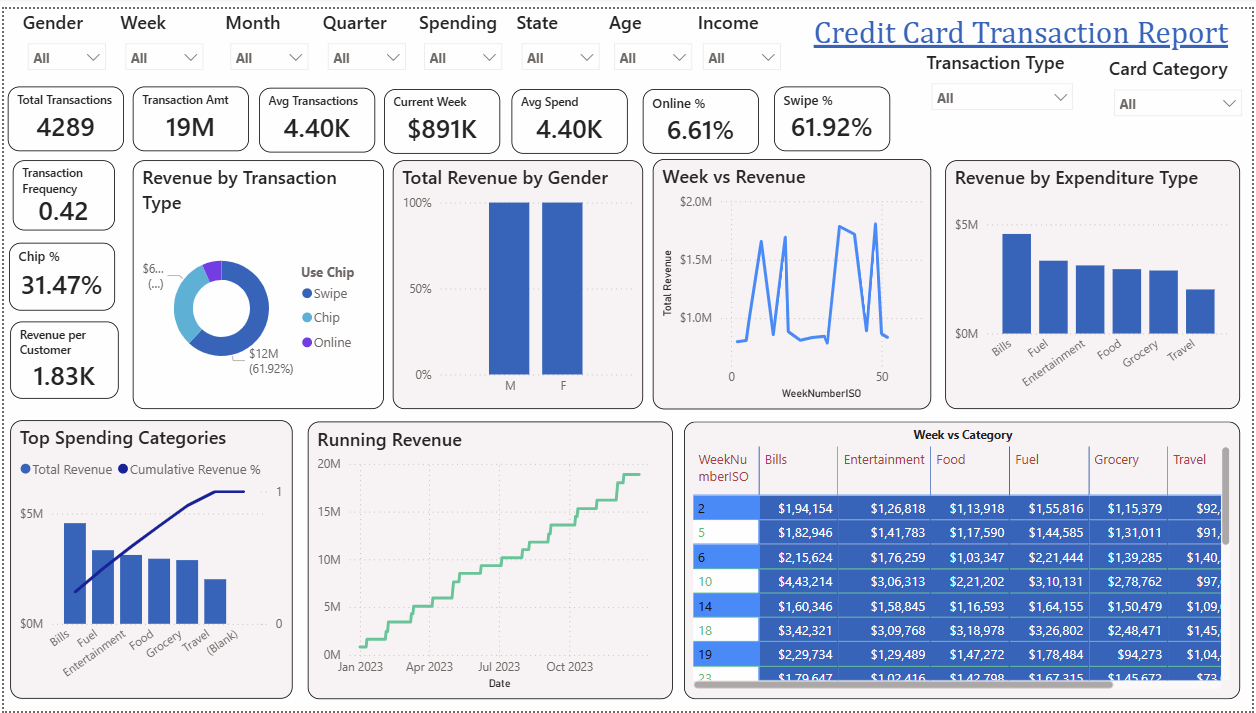

Layout of this report page (visuals, bound fields, positions):
{"tool":"powerbi","page":{"name":"Transaction Report","canvas":[1280,720],"ordinal":1},"visuals":[{"type":"textbox","box":[806.4,0,473.1,61.5],"z":0},{"type":"slicer","title":"Gender","fields":{"Values":["customer.Gender"]},"box":[14.1,0,100,80.8],"z":1000},{"type":"slicer","title":"Week","fields":{"Values":["Calendar.WeekNumberISO"]},"box":[114.1,0,100,80.8],"z":2000},{"type":"slicer","title":"Month","fields":{"Values":["Calendar.MonthShort"]},"box":[221.8,0,100,79.5],"z":3000},{"type":"slicer","title":"Quarter","fields":{"Values":["Calendar.Quarter"]},"box":[321.8,0,100,67.9],"z":4000},{"type":"slicer","title":"Spending","fields":{"Values":["CreditCard.Exp Type"]},"box":[420.5,0,100,79.5],"z":5000},{"type":"slicer","title":"Transaction Type","fields":{"Values":["CreditCard.Use Chip"]},"box":[941,41,165.4,82.1],"z":6000},{"type":"slicer","title":"Card Category","fields":{"Values":["CreditCard.Card_Category"]},"box":[1128.2,47.4,151.3,73.1],"z":7000},{"type":"slicer","title":"State","fields":{"Values":["customer.state_cd"]},"box":[520.5,0,100,79.5],"z":8000},{"type":"slicer","title":"Age","fields":{"Values":["customer.Age group "]},"box":[615.4,0,100,79.5],"z":9000},{"type":"slicer","title":"Income","fields":{"Values":["customer.Income"]},"box":[706.4,0,100,79.5],"z":10000},{"type":"card","title":"Total Transactions","fields":{"Values":["CreditCard.Total transactions"]},"box":[3.8,79.5,119.2,66.7],"z":11000},{"type":"card","title":"Transaction Amt","fields":{"Values":["Sum(CreditCard.Total_Trans_Amt)"]},"box":[132.1,79.5,119.2,66.7],"z":12000},{"type":"card","title":"Avg Transactions","fields":{"Values":["Calendar.Average Transaction"]},"box":[261.5,80.8,119.2,66.7],"z":13000},{"type":"card","title":"Current Week","fields":{"Values":["Calendar.Revenue current week"]},"box":[389.7,82.1,119.2,66.7],"z":14000},{"type":"card","title":"Avg Spend","fields":{"Values":["Calendar.Average Spend"]},"box":[520.5,82.1,119.2,66.7],"z":15000},{"type":"card","title":"Transaction Frequency","fields":{"Values":["Calendar.Transaction Frequency"]},"box":[9,155.1,105.1,71.8],"z":16000},{"type":"card","title":"Online %","fields":{"Values":["Calendar.Online %"]},"box":[655.1,82.1,119.2,66.7],"z":17000},{"type":"card","title":"Swipe %","fields":{"Values":["Calendar.Swipe %"]},"box":[789.7,79.5,119.2,66.7],"z":18000},{"type":"card","title":"Revenue per Customer","fields":{"Values":["Calendar.Revenue per Customer"]},"box":[6.4,320.5,111.5,79.5],"z":19000},{"type":"card","title":"Chip %","fields":{"Values":["Calendar.Chip %"]},"box":[5.1,239.7,109,69.2],"z":20000},{"type":"donutChart","title":"Revenue by Transaction Type","fields":{"Category":["CreditCard.Use Chip"],"Y":["CreditCard.Total Revenue"]},"box":[132.1,155.1,257.7,255.1],"z":21000},{"type":"columnChart","title":" Revenue by Expenditure Type","fields":{"Category":["CreditCard.Exp Type"],"Y":["CreditCard.Total Revenue"]},"box":[965.4,155.1,302.6,255.1],"z":22000},{"type":"hundredPercentStackedColumnChart","fields":{"Category":["customer.Gender"],"Y":["CreditCard.Total Revenue"]},"box":[398.7,155.1,256.4,255.1],"z":23000},{"type":"lineStackedColumnComboChart","title":"Top Spending Categories","fields":{"Y":["CreditCard.Total Revenue"],"Y2":["Calendar.Cumulative Revenue %"],"Category":["CreditCard.Exp Type"]},"box":[6.4,421.8,289.7,285.9],"z":24000},{"type":"lineChart","title":"Week vs Revenue","fields":{"Category":["Calendar.WeekNumberISO"],"Y":["CreditCard.Total Revenue"]},"box":[665.4,153.8,285.9,256.4],"z":25000},{"type":"lineChart","title":"Running Revenue","fields":{"Category":["Calendar.Date"],"Y":["Calendar.Running Revenue"]},"box":[311.5,423.1,374.4,284.6],"z":26000},{"type":"pivotTable","title":"Week vs Category","fields":{"Rows":["Calendar.WeekNumberISO"],"Columns":["CreditCard.Exp Type"],"Values":["CreditCard.Total Revenue"]},"box":[697.4,423.1,570.5,284.6],"z":27000}]}

Visuals, with their boxes in screenshot pixels (x1, y1, x2, y2), scaled from the page's 1280x720 canvas onto the 1256x713 screenshot:
textbox: (left=791, top=0, right=1255, bottom=61)
"Gender" slicer: (left=14, top=0, right=112, bottom=80)
"Week" slicer: (left=112, top=0, right=210, bottom=80)
"Month" slicer: (left=218, top=0, right=316, bottom=79)
"Quarter" slicer: (left=316, top=0, right=414, bottom=67)
"Spending" slicer: (left=413, top=0, right=511, bottom=79)
"Transaction Type" slicer: (left=923, top=41, right=1086, bottom=122)
"Card Category" slicer: (left=1107, top=47, right=1255, bottom=119)
"State" slicer: (left=511, top=0, right=609, bottom=79)
"Age" slicer: (left=604, top=0, right=702, bottom=79)
"Income" slicer: (left=693, top=0, right=791, bottom=79)
"Total Transactions" card: (left=4, top=79, right=121, bottom=145)
"Transaction Amt" card: (left=130, top=79, right=247, bottom=145)
"Avg Transactions" card: (left=257, top=80, right=374, bottom=146)
"Current Week" card: (left=382, top=81, right=499, bottom=147)
"Avg Spend" card: (left=511, top=81, right=628, bottom=147)
"Transaction Frequency" card: (left=9, top=154, right=112, bottom=225)
"Online %" card: (left=643, top=81, right=760, bottom=147)
"Swipe %" card: (left=775, top=79, right=892, bottom=145)
"Revenue per Customer" card: (left=6, top=317, right=116, bottom=396)
"Chip %" card: (left=5, top=237, right=112, bottom=306)
"Revenue by Transaction Type" donutChart: (left=130, top=154, right=382, bottom=406)
" Revenue by Expenditure Type" columnChart: (left=947, top=154, right=1244, bottom=406)
hundredPercentStackedColumnChart - customer.Gender x CreditCard.Total Revenue: (left=391, top=154, right=643, bottom=406)
"Top Spending Categories" lineStackedColumnComboChart: (left=6, top=418, right=291, bottom=701)
"Week vs Revenue" lineChart: (left=653, top=152, right=933, bottom=406)
"Running Revenue" lineChart: (left=306, top=419, right=673, bottom=701)
"Week vs Category" pivotTable: (left=684, top=419, right=1244, bottom=701)
